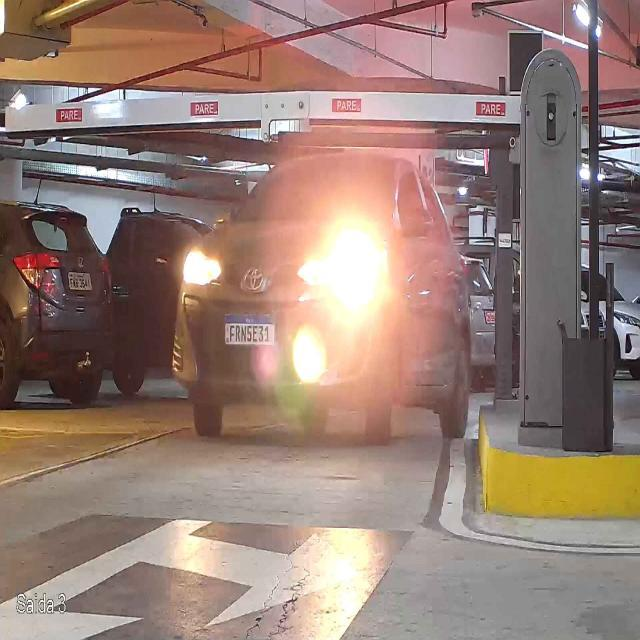mercosul_plate: (223, 311, 276, 347)
